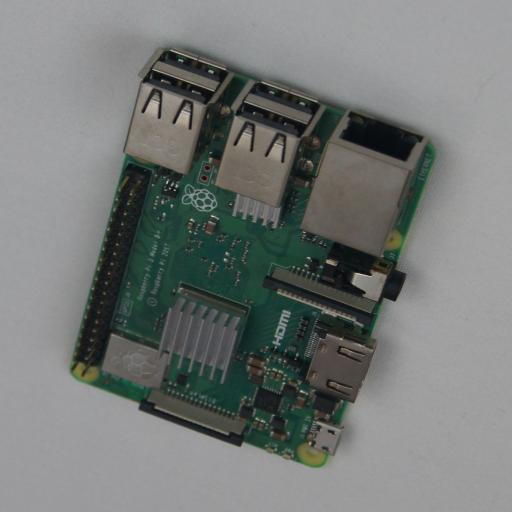Raspberry Pi 3 B-: (70, 47, 437, 467)
